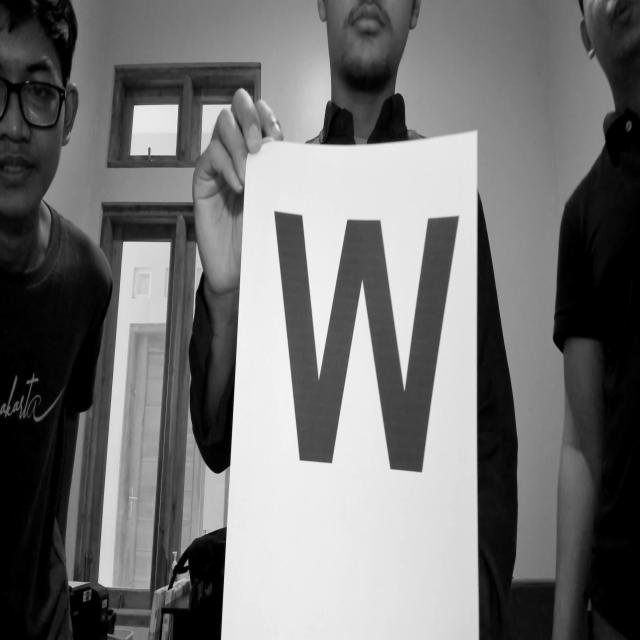w: (250, 197, 480, 507)
